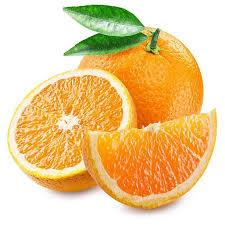orange: (2, 62, 138, 202), (78, 19, 211, 118), (76, 116, 214, 201)
